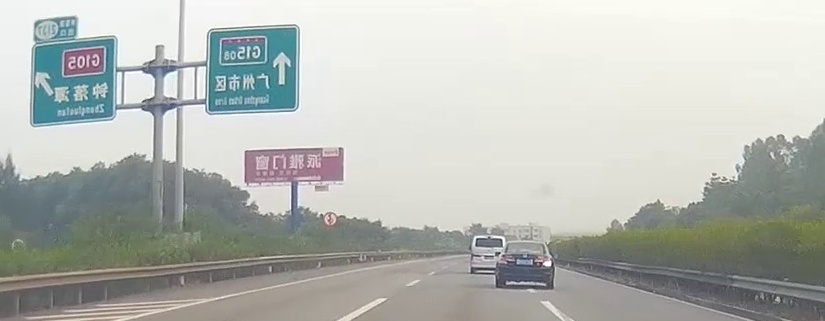L_light: (498, 255, 516, 265)
R_light: (534, 256, 552, 267)
T_light: (522, 242, 531, 244)
day-right: (495, 240, 555, 289)
